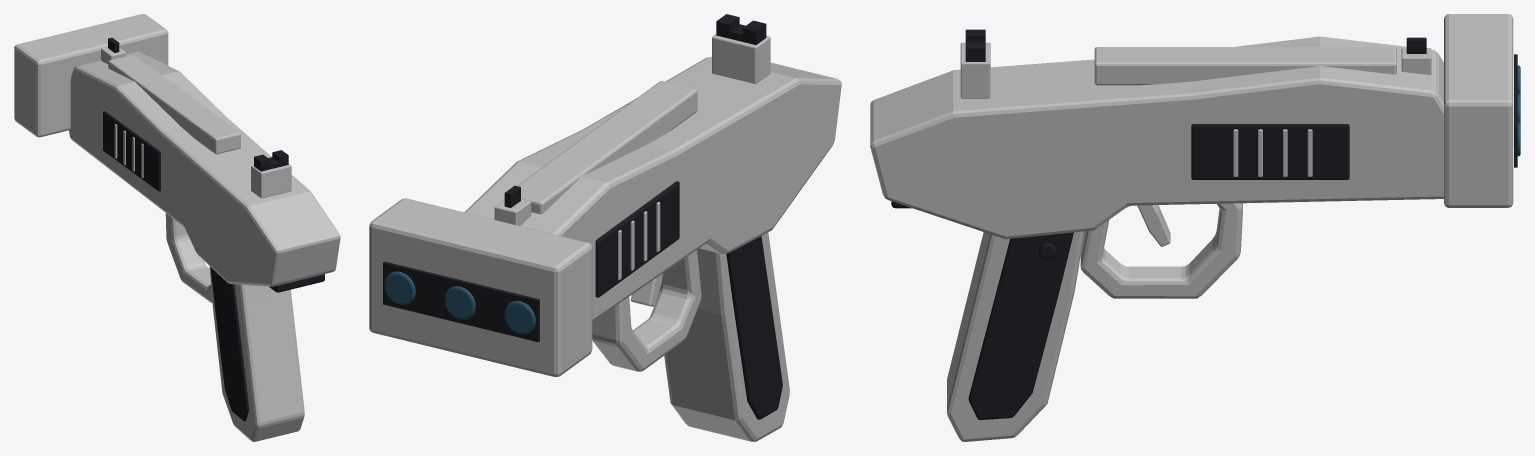
File: game-tool-cutter.glb
3 renders of one model, left to right at view 1: azimuth 30°, elevation 25°; view 2: azimuth 150°, elevation 25°; view 3: azimuth 270°, elevation 25°, orthographic. The views are drawn at different scales.
Parts seen in each view (by area): view 1: receiver_lod0, hand_grip_lod0, working_head_lod0, tool_spine_lod0, grip_panel_-1_lod0, access_panel_-1_lod0, trigger_guard_lod0, rear_sight_seat_lod0, rear_sight_geometry_lod0, battery_panel_lod0; view 2: receiver_lod0, working_head_lod0, hand_grip_lod0, tool_spine_lod0, trigger_guard_lod0, grip_panel_-1_lod0, head_separator_lod0, access_panel_-1_lod0, rear_sight_seat_lod0, rear_sight_geometry_lod0, working_socket_0_lod0, working_socket_2_lod0 (+3 smaller); view 3: receiver_lod0, working_head_lod0, grip_panel_1_lod0, hand_grip_lod0, tool_spine_lod0, access_panel_1_lod0, trigger_guard_lod0, rear_sight_seat_lod0, trigger_lod0, rear_sight_geometry_lod0, front_sight_seat_lod0.
Boxes of the visible parts, x1=… form: receiver_lod0: x1=69, y1=51, x2=340, y2=286; hand_grip_lod0: x1=209, y1=266, x2=304, y2=441; working_head_lod0: x1=14, y1=14, x2=168, y2=137; tool_spine_lod0: x1=108, y1=54, x2=240, y2=154; grip_panel_-1_lod0: x1=210, y1=267, x2=249, y2=421; access_panel_-1_lod0: x1=103, y1=111, x2=160, y2=191; trigger_guard_lod0: x1=165, y1=213, x2=212, y2=302; rear_sight_seat_lod0: x1=251, y1=164, x2=291, y2=198; rear_sight_geometry_lod0: x1=254, y1=150, x2=288, y2=171; battery_panel_lod0: x1=269, y1=274, x2=324, y2=292; receiver_lod0: x1=464, y1=57, x2=841, y2=321; working_head_lod0: x1=369, y1=198, x2=592, y2=376; hand_grip_lod0: x1=657, y1=232, x2=789, y2=441; tool_spine_lod0: x1=517, y1=81, x2=697, y2=214; trigger_guard_lod0: x1=592, y1=250, x2=701, y2=371; grip_panel_-1_lod0: x1=726, y1=236, x2=782, y2=419; head_separator_lod0: x1=383, y1=261, x2=539, y2=342; access_panel_-1_lod0: x1=595, y1=181, x2=679, y2=297; rear_sight_seat_lod0: x1=712, y1=34, x2=770, y2=83; rear_sight_geometry_lod0: x1=716, y1=14, x2=766, y2=44; working_socket_0_lod0: x1=504, y1=300, x2=535, y2=334; working_socket_2_lod0: x1=384, y1=271, x2=415, y2=304; receiver_lod0: x1=870, y1=36, x2=1443, y2=239; working_head_lod0: x1=1444, y1=14, x2=1513, y2=207; grip_panel_1_lod0: x1=968, y1=232, x2=1073, y2=419; hand_grip_lod0: x1=947, y1=231, x2=1084, y2=441; tool_spine_lod0: x1=1094, y1=47, x2=1396, y2=85; access_panel_1_lod0: x1=1191, y1=124, x2=1349, y2=179; trigger_guard_lod0: x1=1080, y1=203, x2=1242, y2=298; rear_sight_seat_lod0: x1=960, y1=42, x2=990, y2=98; trigger_lod0: x1=1137, y1=205, x2=1170, y2=246; rear_sight_geometry_lod0: x1=965, y1=29, x2=985, y2=61; front_sight_seat_lod0: x1=1401, y1=48, x2=1431, y2=74.
Size of what is drawn, in the model's own units: 0.086 by 0.1728 by 0.2625.
